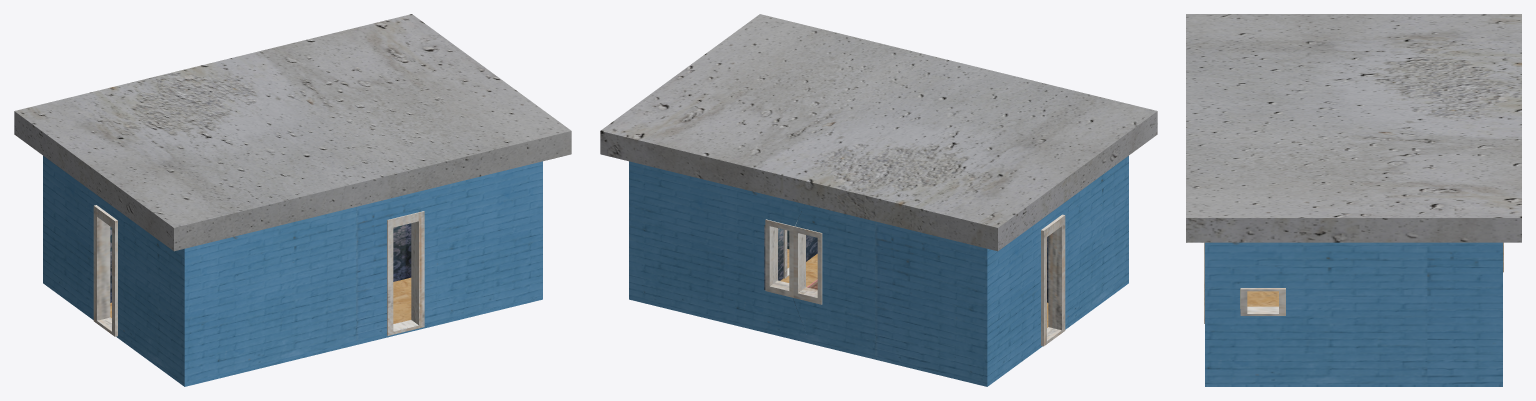
Rendered from House ver2.FBX.
3 views of the same model, side by side, from view 1: azimuth 30°, elevation 25°; view 2: azimuth 150°, elevation 25°; view 3: azimuth 270°, elevation 25° (orthographic). The views are drawn at different scales.
Parts seen in each view (by area): view 1: House ver2; view 2: House ver2; view 3: House ver2.
Boxes of the visible parts, bbox=[...] form: House ver2: bbox=[14, 14, 571, 386]; House ver2: bbox=[600, 14, 1157, 386]; House ver2: bbox=[1186, 14, 1521, 386].
Size of the model in its own units: 586 by 240 by 408.
